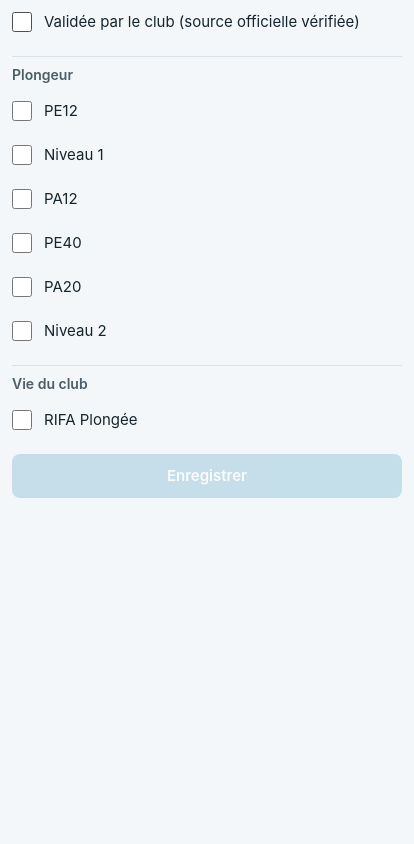
Test case: CertificationTree › checking N2 auto-ticks everything it covers, disabled
Click the checkbox labelled "Niveau 2" at (22, 331), box [12,321,32,341]
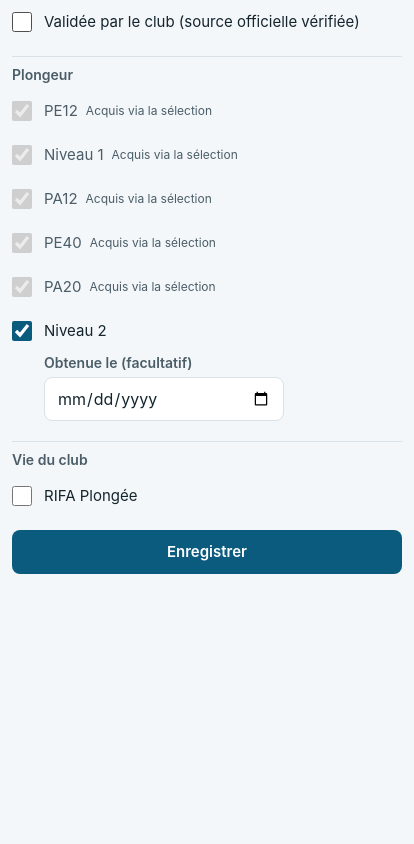
expect the checkbox labelled "Niveau 1" is checked: met, box [12,145,32,165]
expect the checkbox labelled "Niveau 1" is disabled: met, box [12,145,32,165]
expect the checkbox labelled "PE12" is checked: met, box [12,101,32,121]
